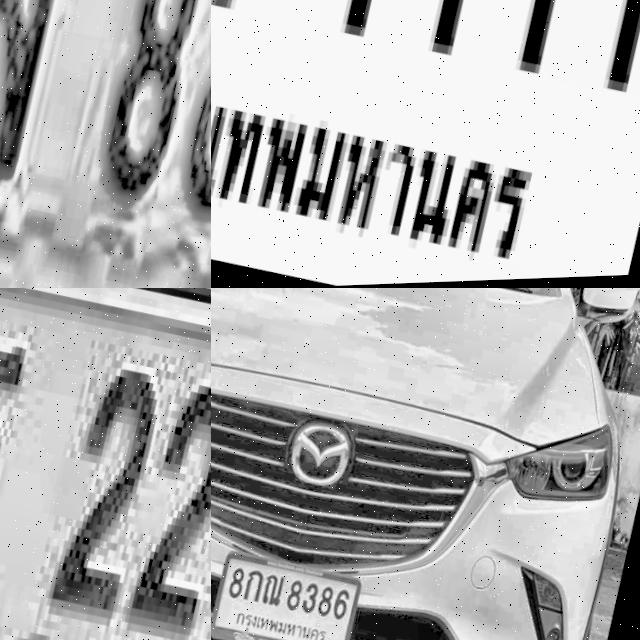license-plate: (211, 0, 640, 288), (0, 288, 211, 640), (0, 0, 211, 288), (211, 543, 363, 640)
